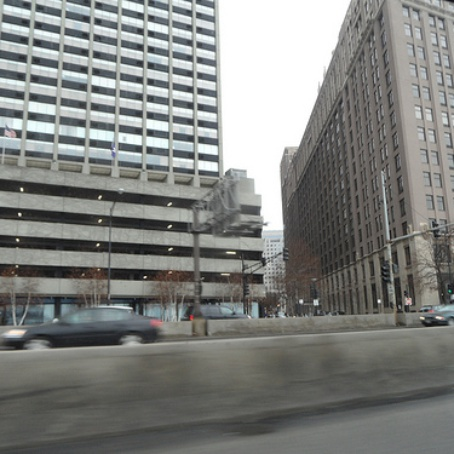building: (1, 1, 261, 298), (292, 1, 454, 308)
car: (8, 299, 158, 358)
